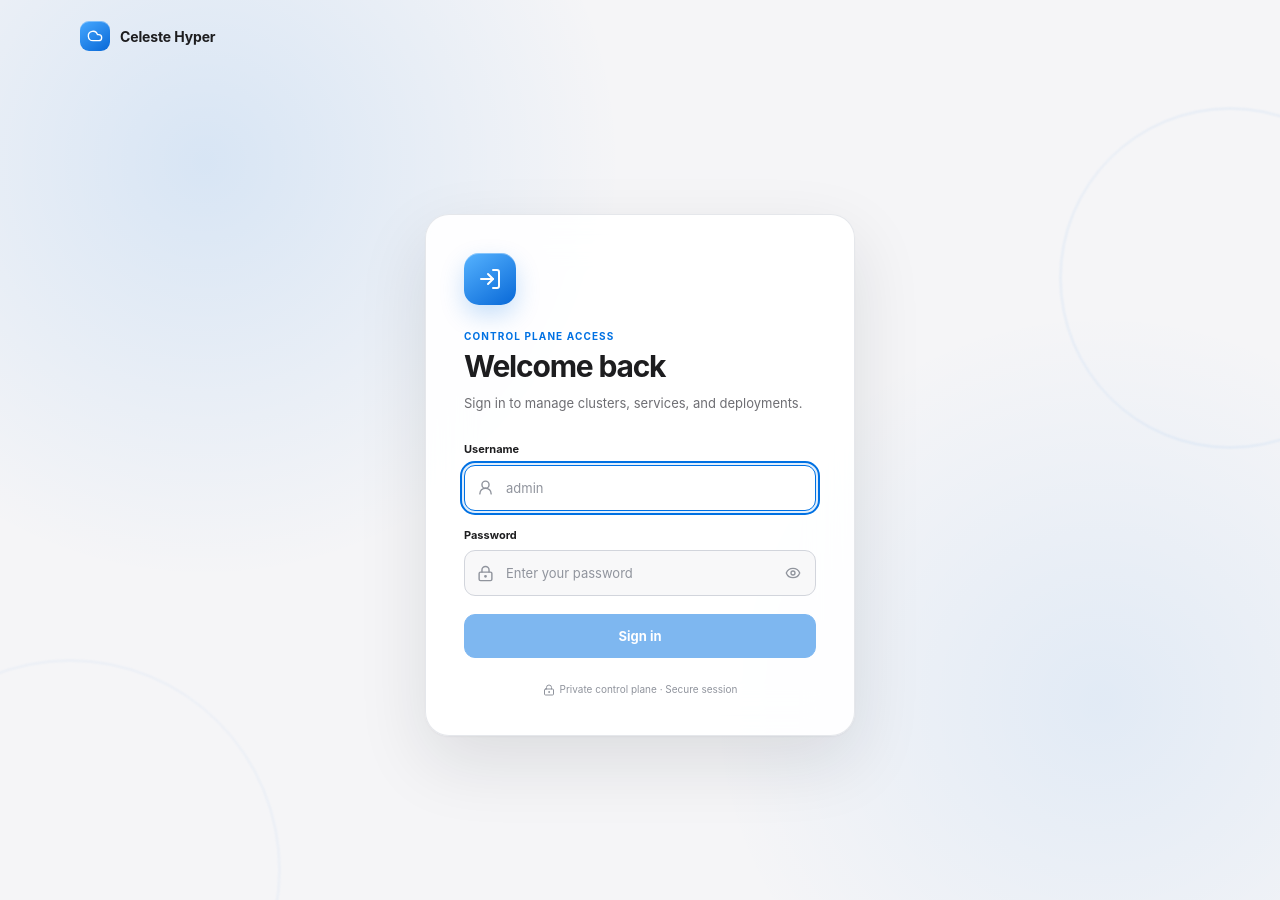
Scenario: Login › shows the error message on bad credentials and does not authenticate
This screenshot has width=1280, height=900.
In the field labelled "Username": (640, 488) [464,465,816,511], type "alice"
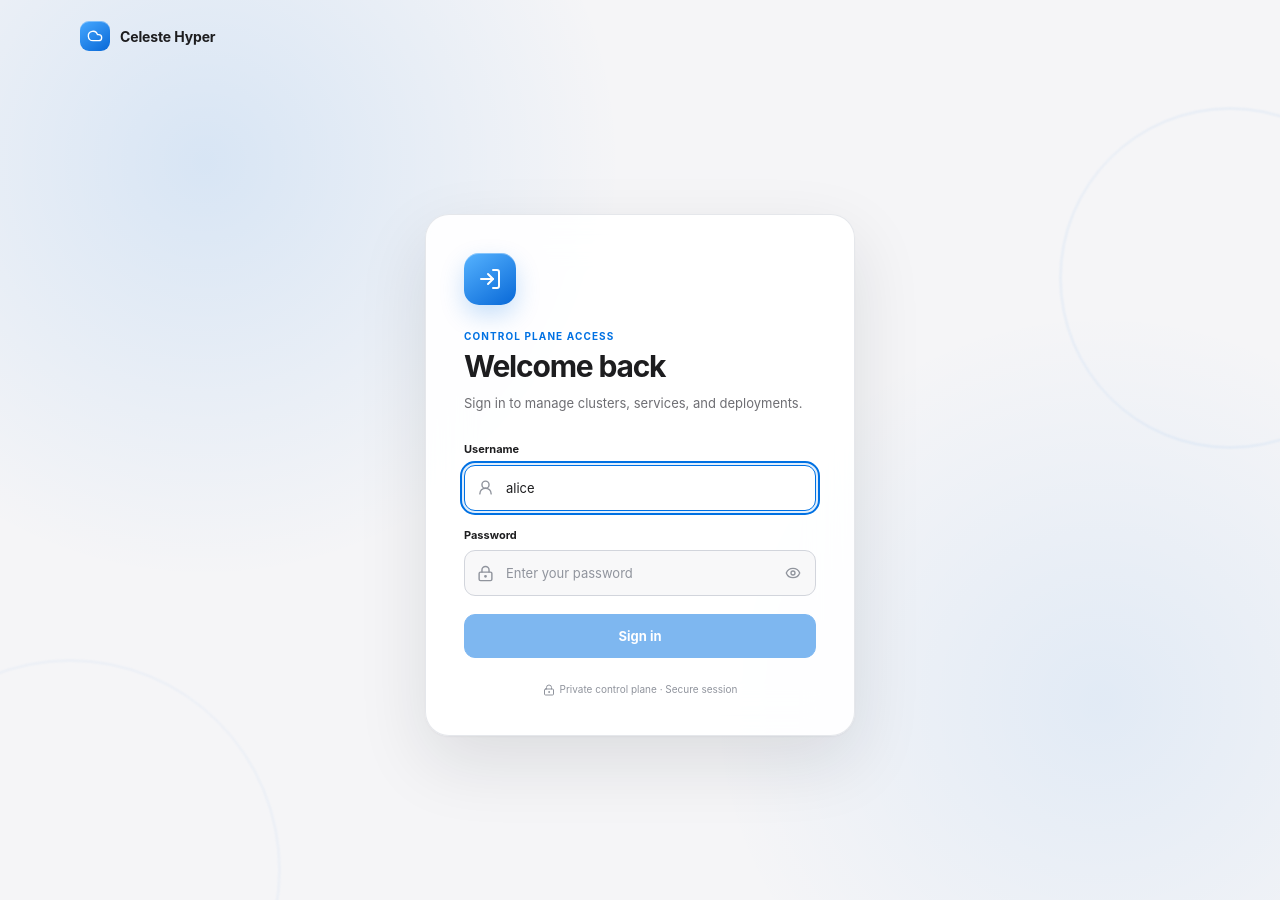
In the password field labelled "Password": (640, 573) [464,550,816,596], type "wrong"
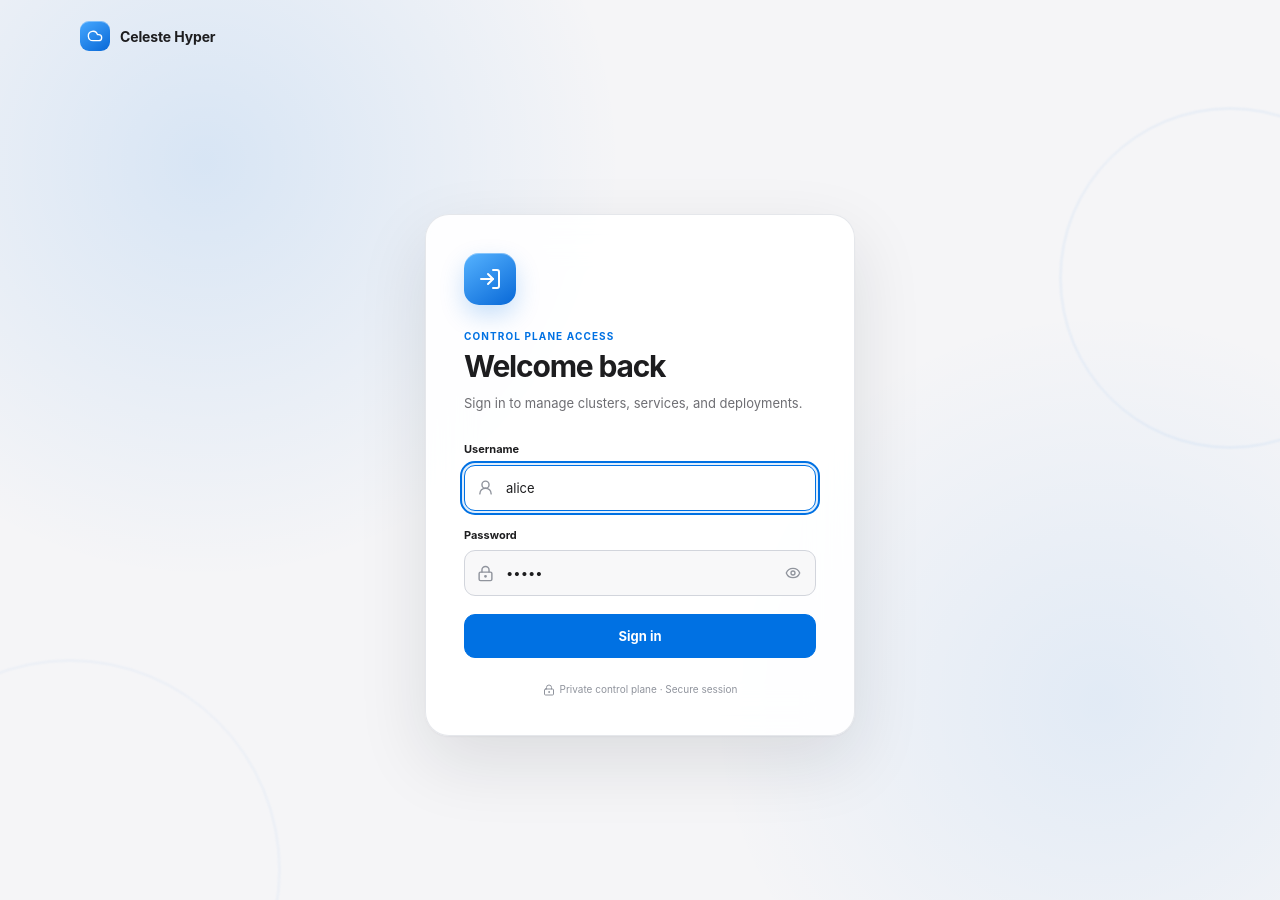
Click the button "Sign in": (640, 636) [464,614,816,658]
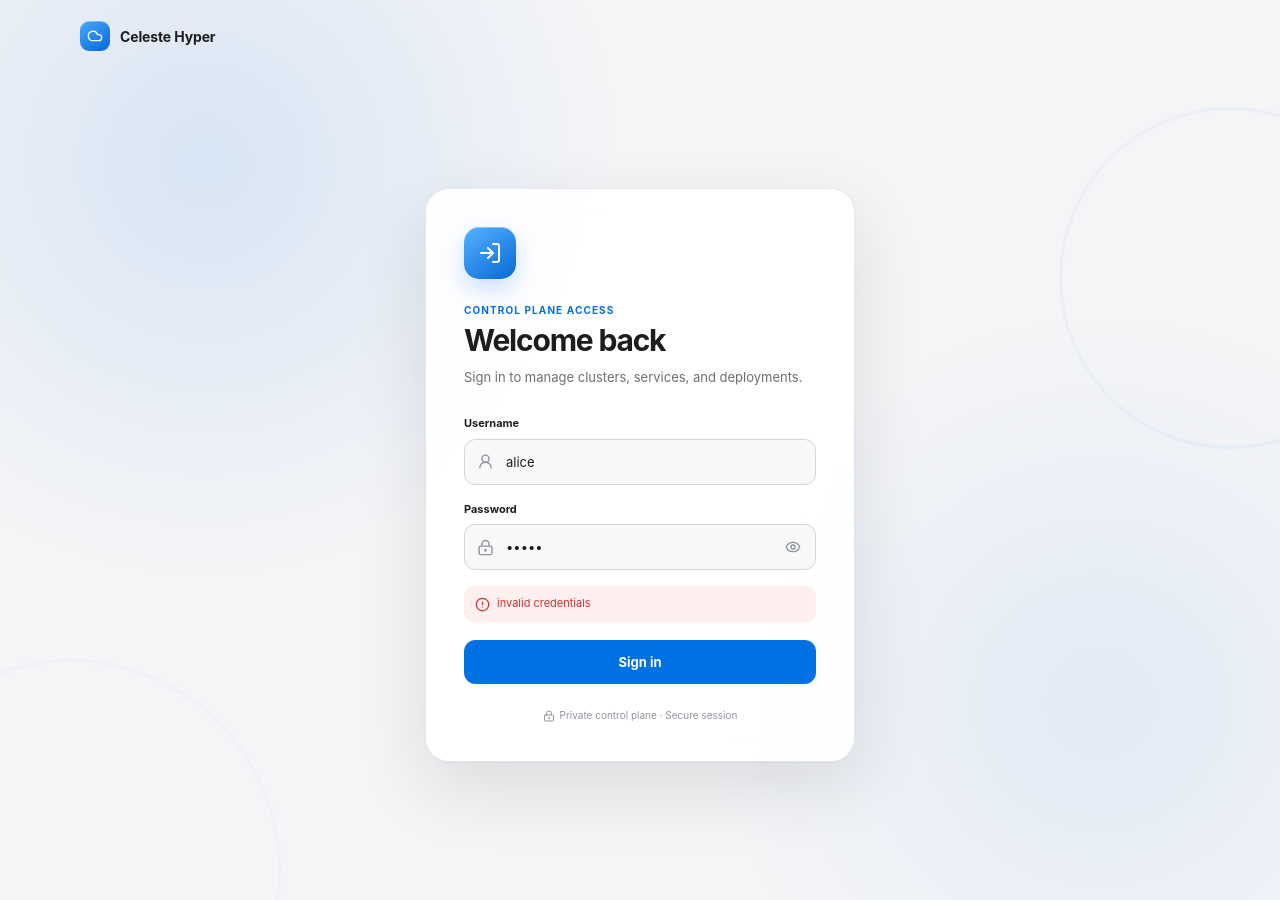
Expected: the message reads "invalid credentials", [497,596,591,610]
